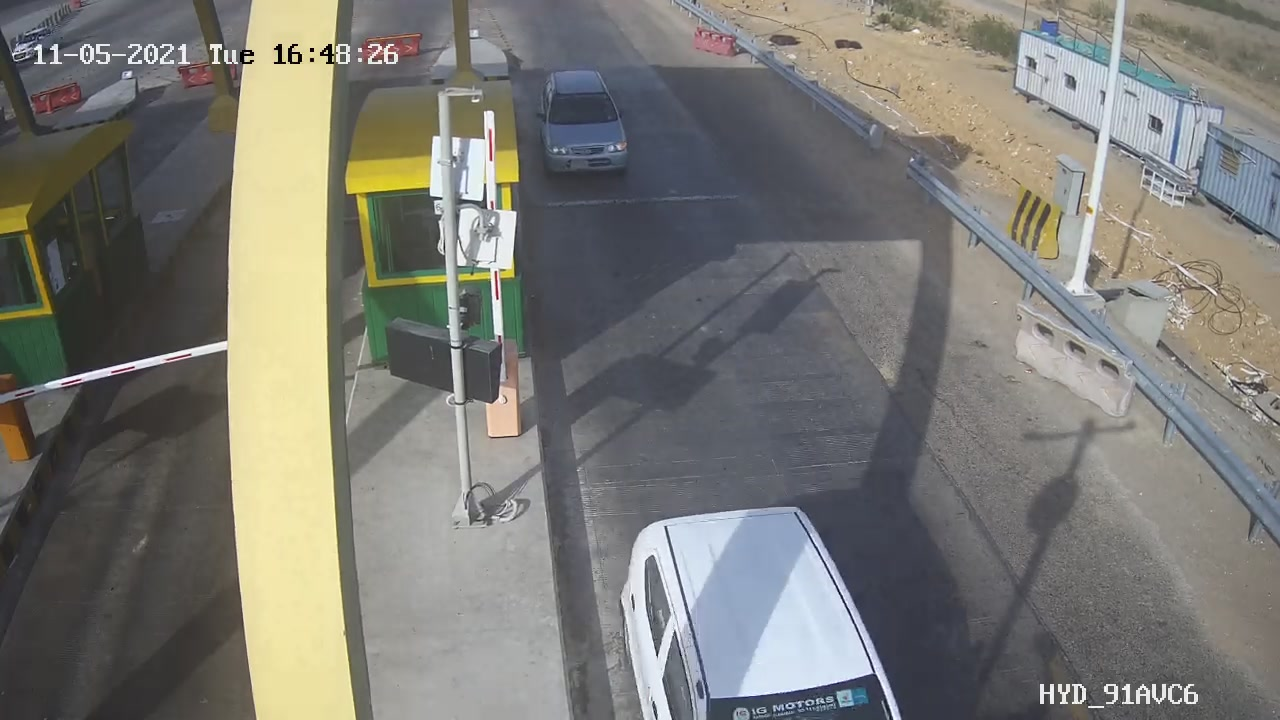F1: (524, 57, 648, 190)
